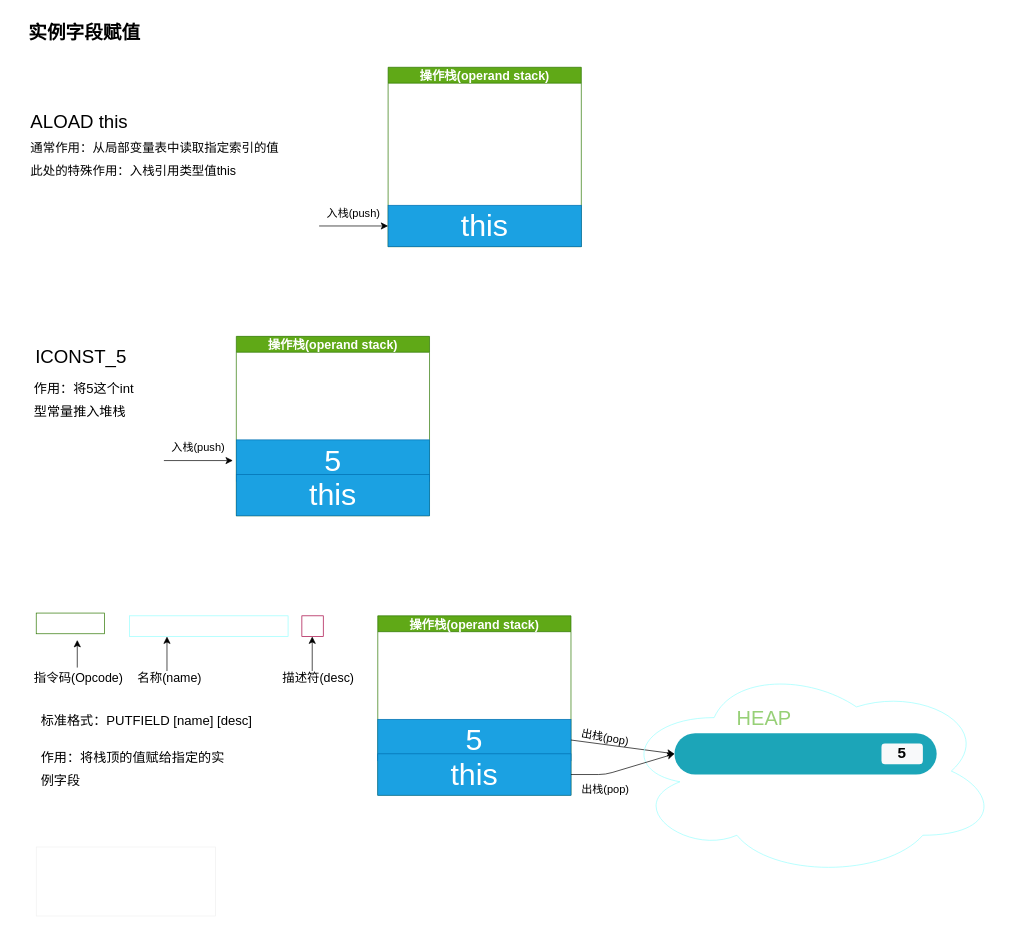
Image size: 1011x928. Some labels were removed from this diagram. Each missing label, with the box of its shape:
ExampleField.ExampleField: (674, 733, 936, 774)
PUTFIELD ExampleField.SimpleField I: (129, 615, 288, 637)
注： 此处this的作用是指向当前的实例 PUTFIELD时this与5同时出栈: (36, 846, 216, 916)
